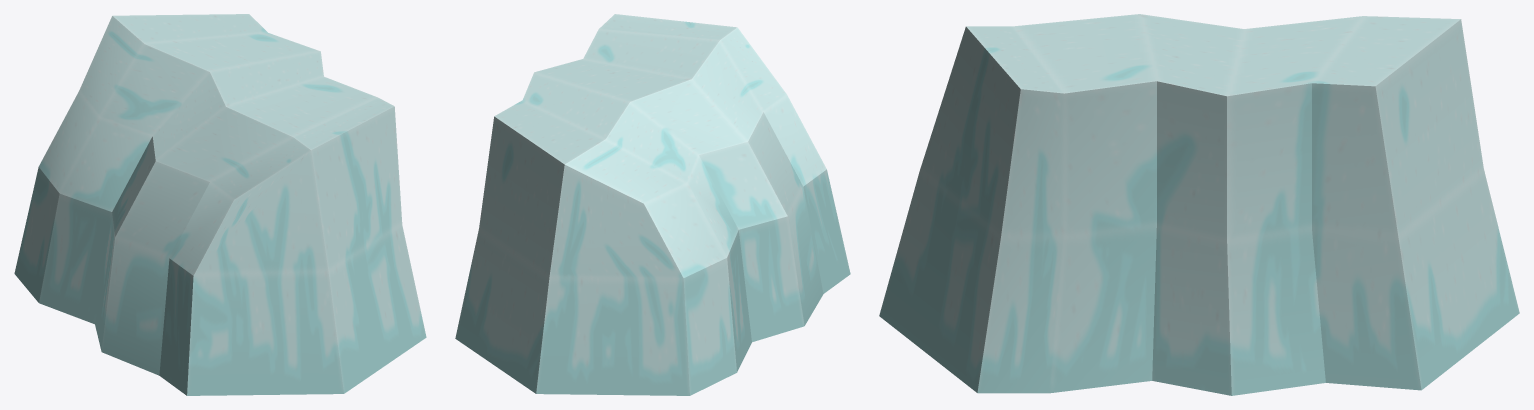
File: env_Ice_Cliff_C.FBX
The picture shows the model from 3 angles, left to right: view 1: azimuth 30°, elevation 25°; view 2: azimuth 150°, elevation 25°; view 3: azimuth 270°, elevation 25°; orthographic projection. The views are drawn at different scales.
Visible parts, largest first — view 1: env_Ice_Cliff_C; view 2: env_Ice_Cliff_C; view 3: env_Ice_Cliff_C.
Boxes of the visible parts, x1=… form: env_Ice_Cliff_C: x1=14, y1=14, x2=426, y2=395; env_Ice_Cliff_C: x1=455, y1=14, x2=850, y2=395; env_Ice_Cliff_C: x1=879, y1=14, x2=1519, y2=395.
Size of the model in its own units: 1358 by 1100 by 2172.
